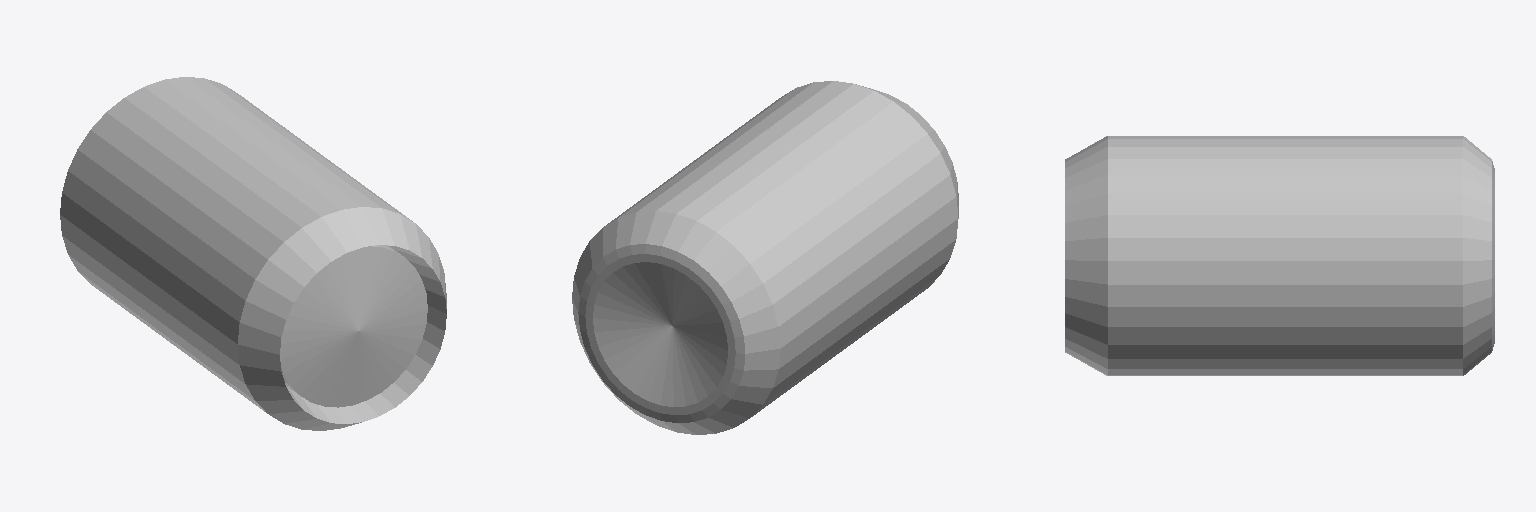
The model's file is coke.obj.
The picture shows the model from 3 angles: view 1: azimuth 30°, elevation 25°; view 2: azimuth 150°, elevation 25°; view 3: azimuth 270°, elevation 25°; orthographic projection.
Bounding box in the file's own units: 0.0677 × 0.0677 × 0.1206.